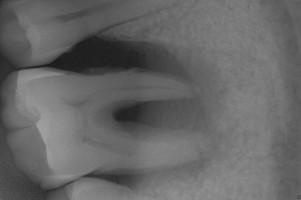Dental Caries: (97, 36, 225, 135)
